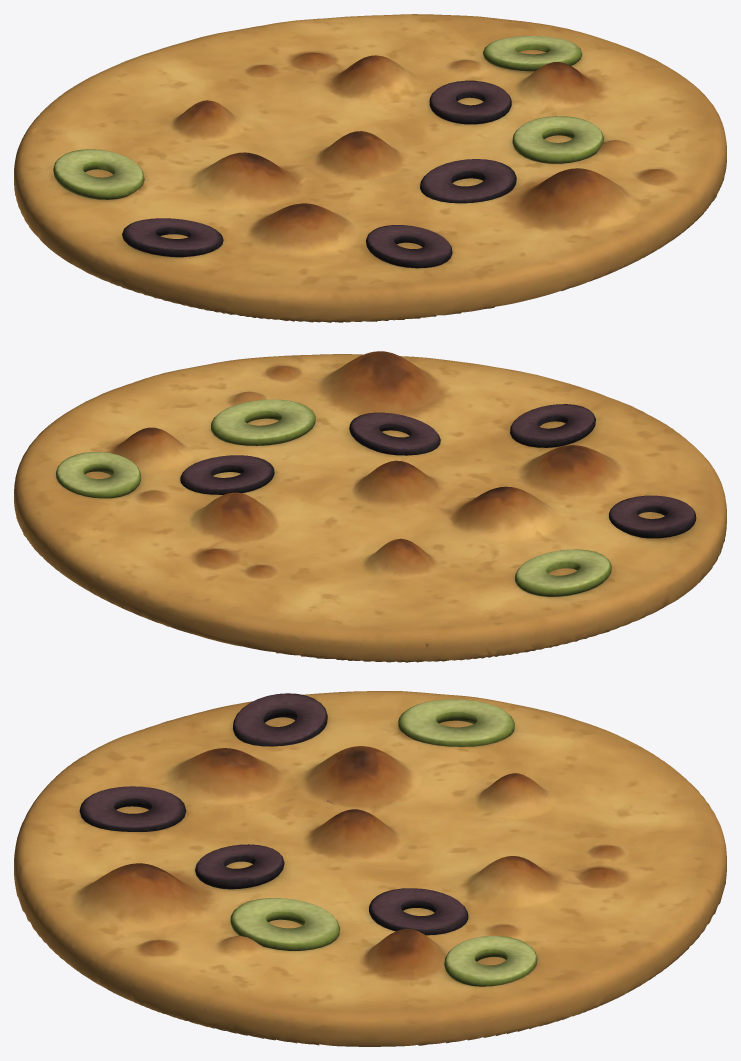
The model's file is flatbread--olive-flesh.glb.
3 views of the same model, one above another, from view 1: azimuth 30°, elevation 25°; view 2: azimuth 150°, elevation 25°; view 3: azimuth 270°, elevation 25° (orthographic). The views are drawn at different scales.
Visible parts, largest first — view 1: flatbread_olive-flesh; view 2: flatbread_olive-flesh; view 3: flatbread_olive-flesh.
Part boxes in pixels (x1=…): flatbread_olive-flesh: x1=14, y1=14, x2=726, y2=322; flatbread_olive-flesh: x1=14, y1=351, x2=726, y2=662; flatbread_olive-flesh: x1=14, y1=691, x2=726, y2=1046.
Size of the model in its own units: 0.9981 by 0.0947 by 0.9017.
Materials: 1 (1 with a texture image).
